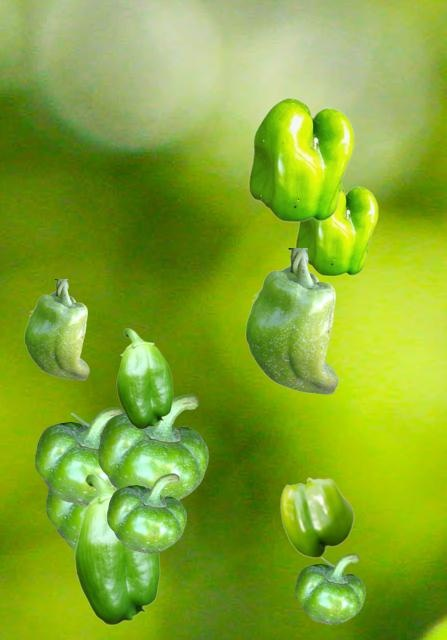bell_pepper: (245, 248, 337, 393), (248, 97, 353, 221), (74, 473, 159, 624), (98, 394, 207, 499), (35, 407, 122, 504), (295, 186, 377, 275), (24, 279, 88, 379), (107, 473, 185, 552), (280, 477, 353, 557), (116, 328, 172, 428), (295, 553, 364, 623), (46, 488, 86, 550)
